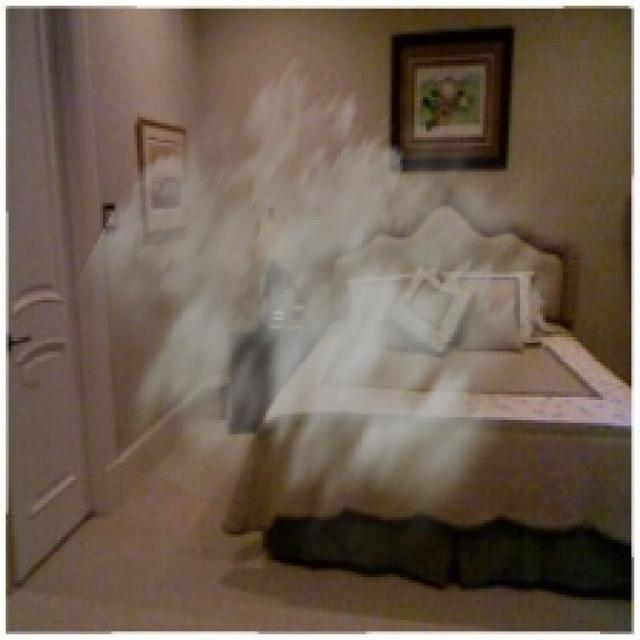smoke: (57, 54, 580, 606)
